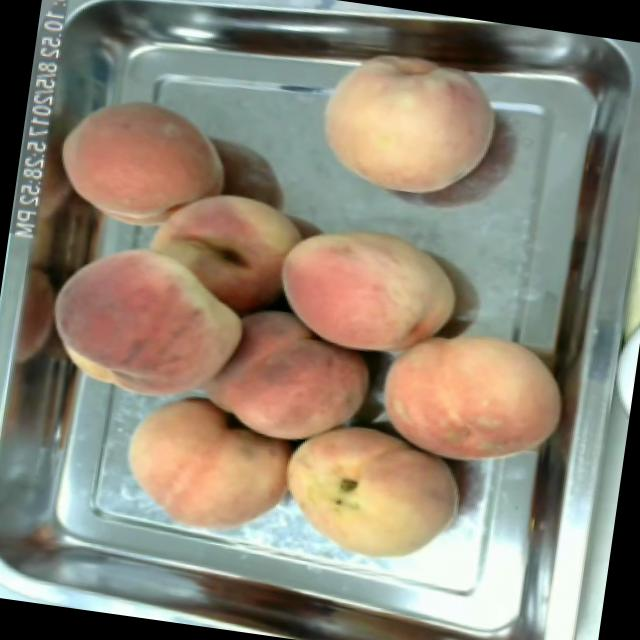Fruit: (32, 226, 264, 417), (365, 308, 579, 484), (267, 403, 477, 580), (306, 38, 508, 212), (193, 284, 390, 462), (108, 380, 310, 552), (264, 209, 472, 372), (43, 82, 243, 244), (129, 174, 317, 330)
